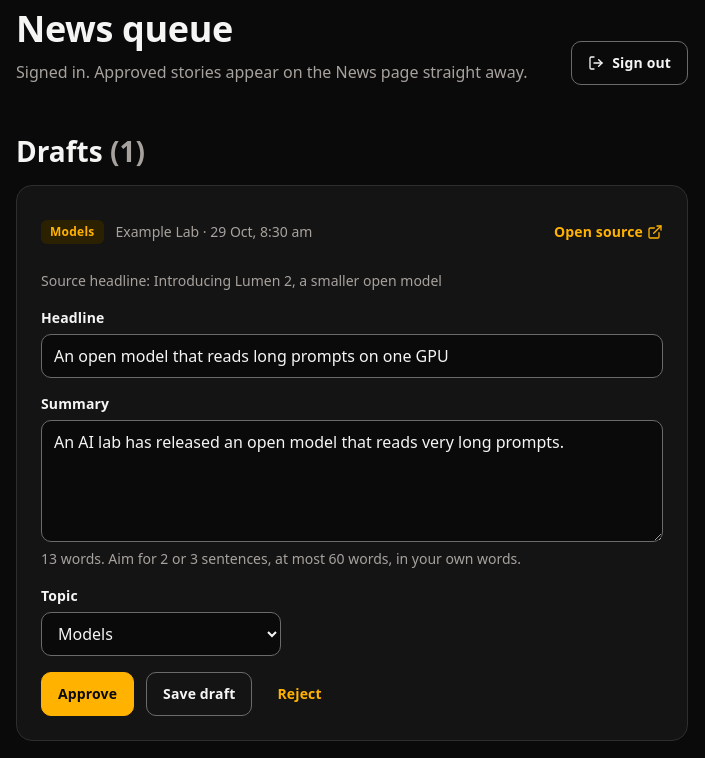
Test: AdminNewsView › counts summary words as you type
Replace the text in the text box labelled "Summary" with "Three short words": (352, 481) [41,420,663,542]
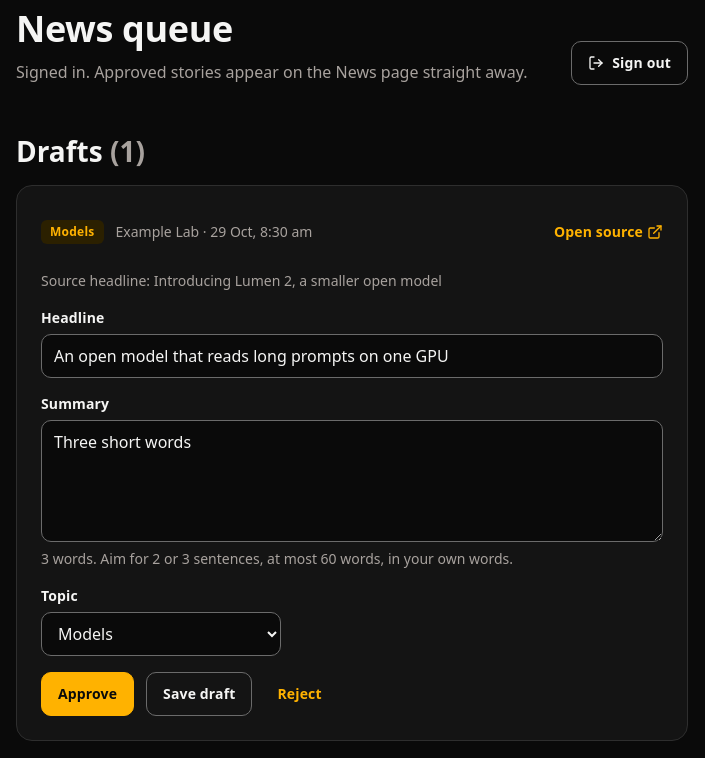
Expected: the text "3 words." is shown, [41,549,513,568]
